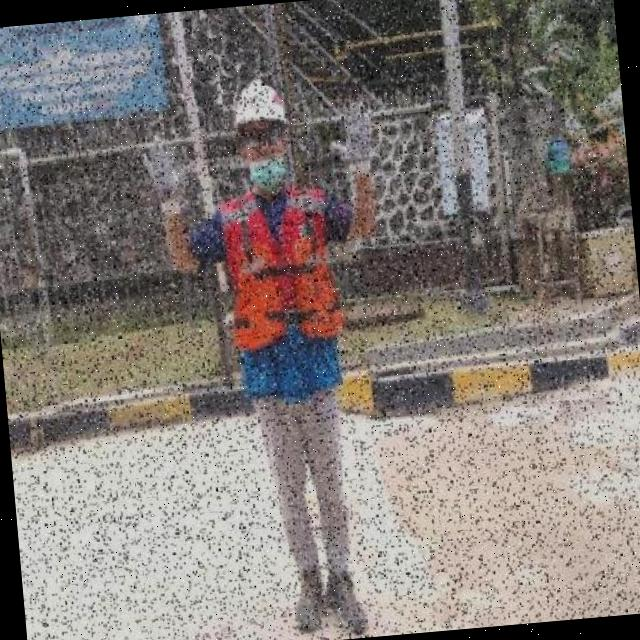vest: (219, 184, 355, 410)
